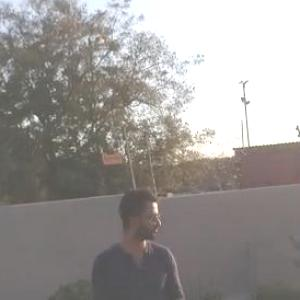follow: (85, 173, 193, 299)
